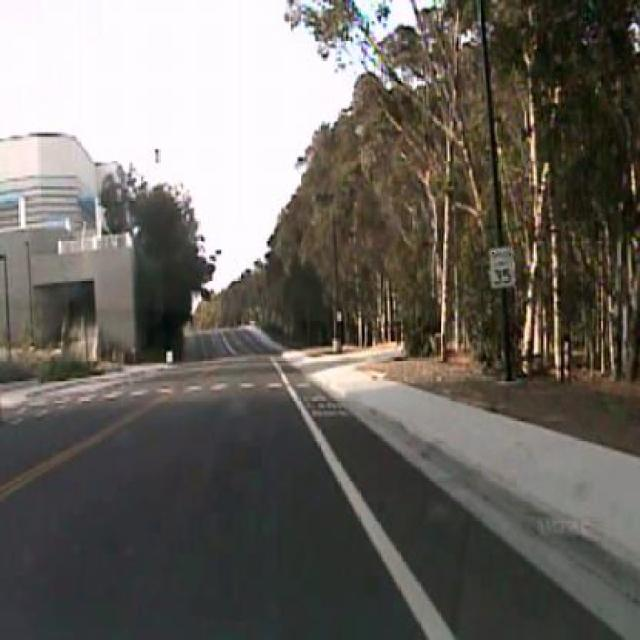speedLimit35: (488, 244, 516, 290)
